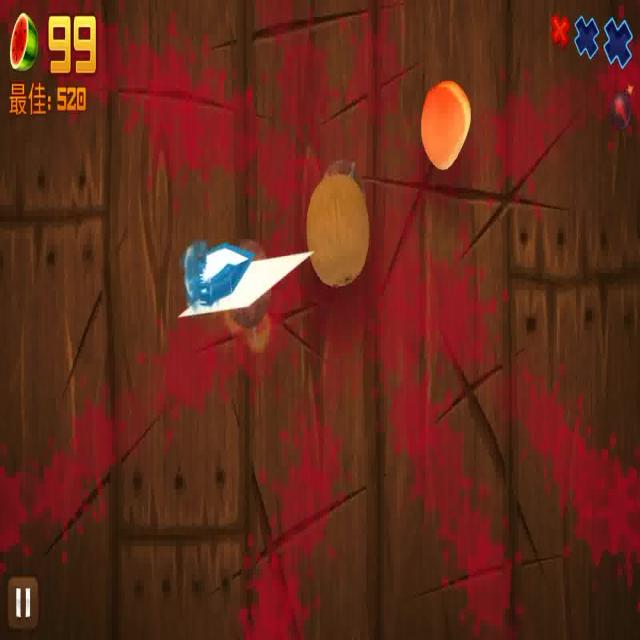fruit: (306, 172, 371, 286), (221, 237, 273, 326), (420, 80, 469, 172)
